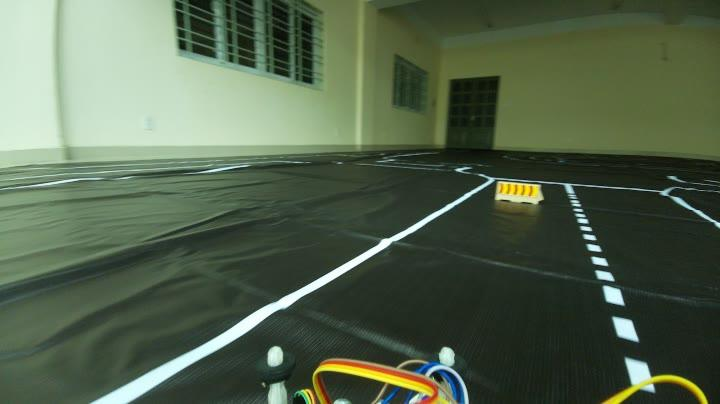roadblock: (491, 176, 545, 202)
